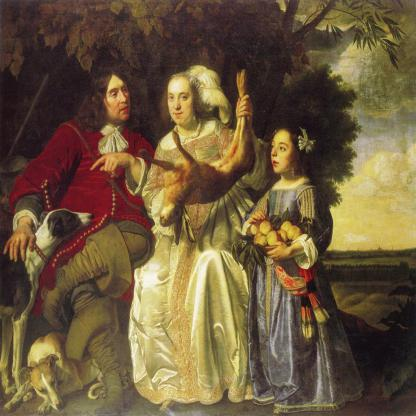face: (105, 79, 132, 121), (168, 85, 195, 126), (272, 137, 294, 173)
